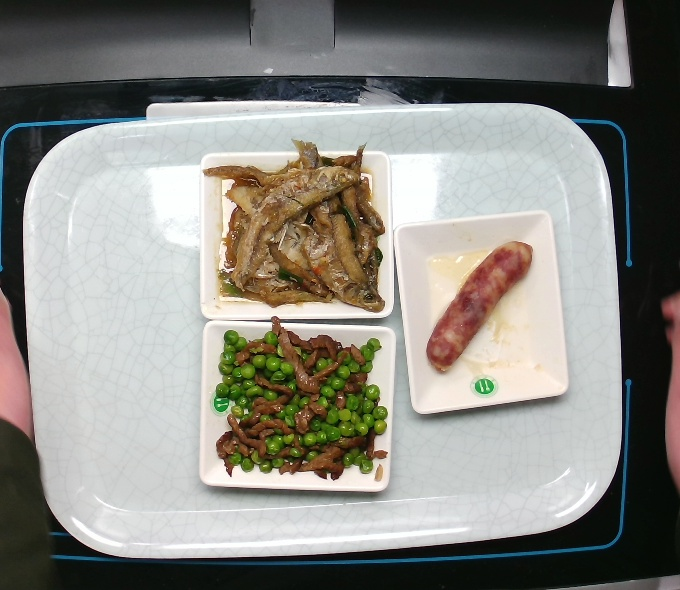wcq-CanDouNiuRou: (204, 321, 399, 489)
wcq-XiangChang: (424, 242, 536, 377)
wcq-XiaoJiYu: (196, 136, 390, 319)
